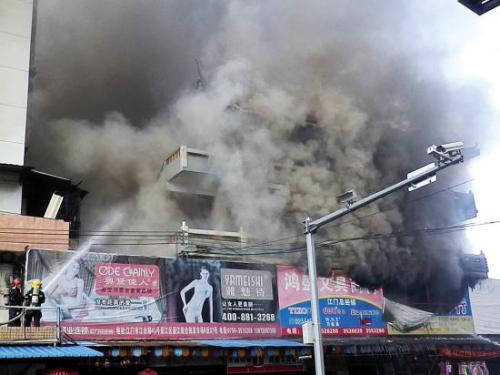smoke: (206, 26, 454, 277)
